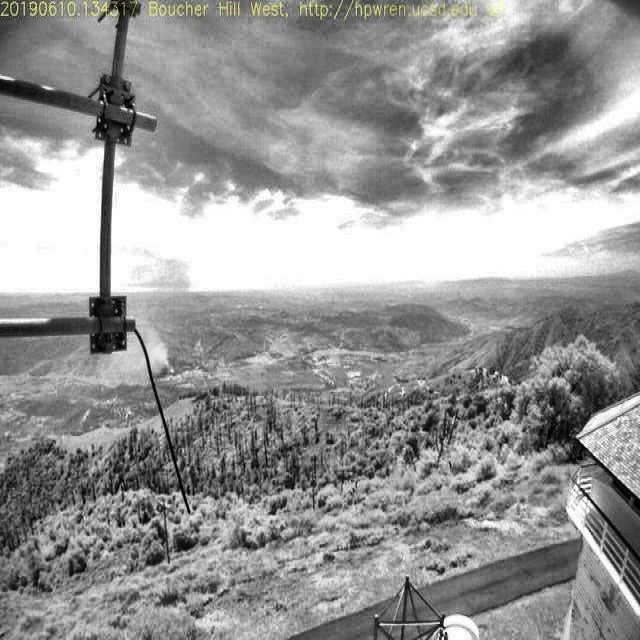smoke: (118, 225, 193, 379)
